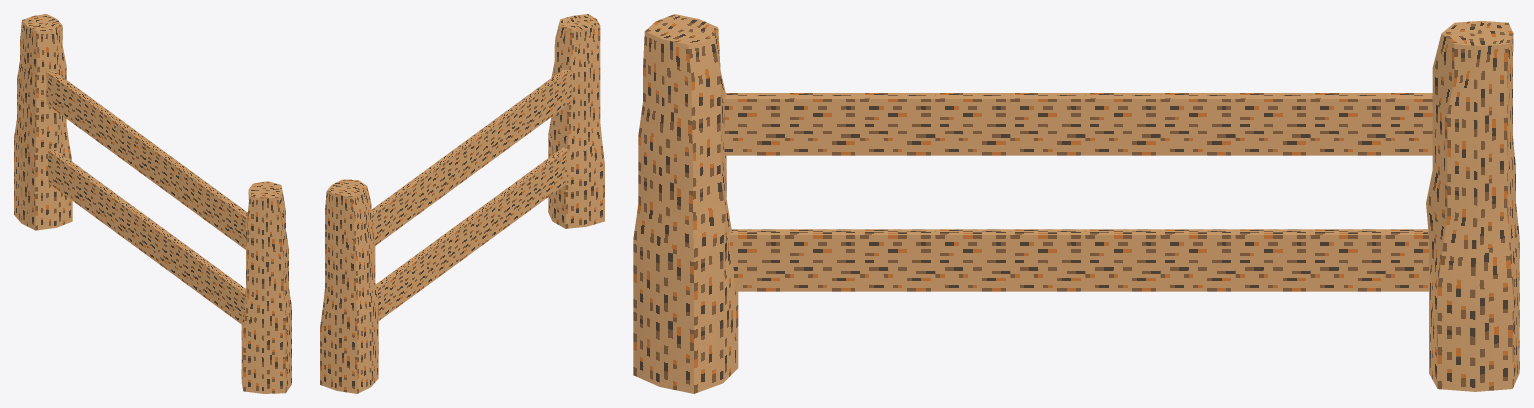
File: fence.gtlf.gltf
The picture shows the model from 3 angles, left to right: view 1: azimuth 30°, elevation 25°; view 2: azimuth 150°, elevation 25°; view 3: azimuth 270°, elevation 25°; orthographic projection. The views are drawn at different scales.
Size of the model in its own units: 0.6984 by 2.5 by 5.9.
1 material, 1 textured.
